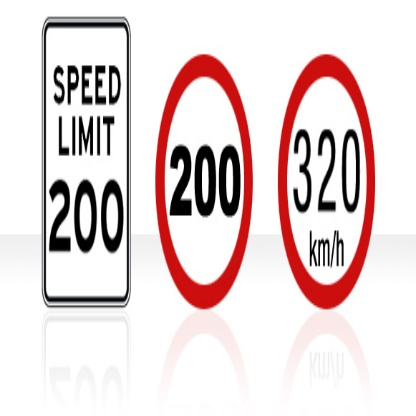limit1: (39, 14, 133, 311)
limit2: (150, 51, 254, 313), (276, 50, 377, 314)
